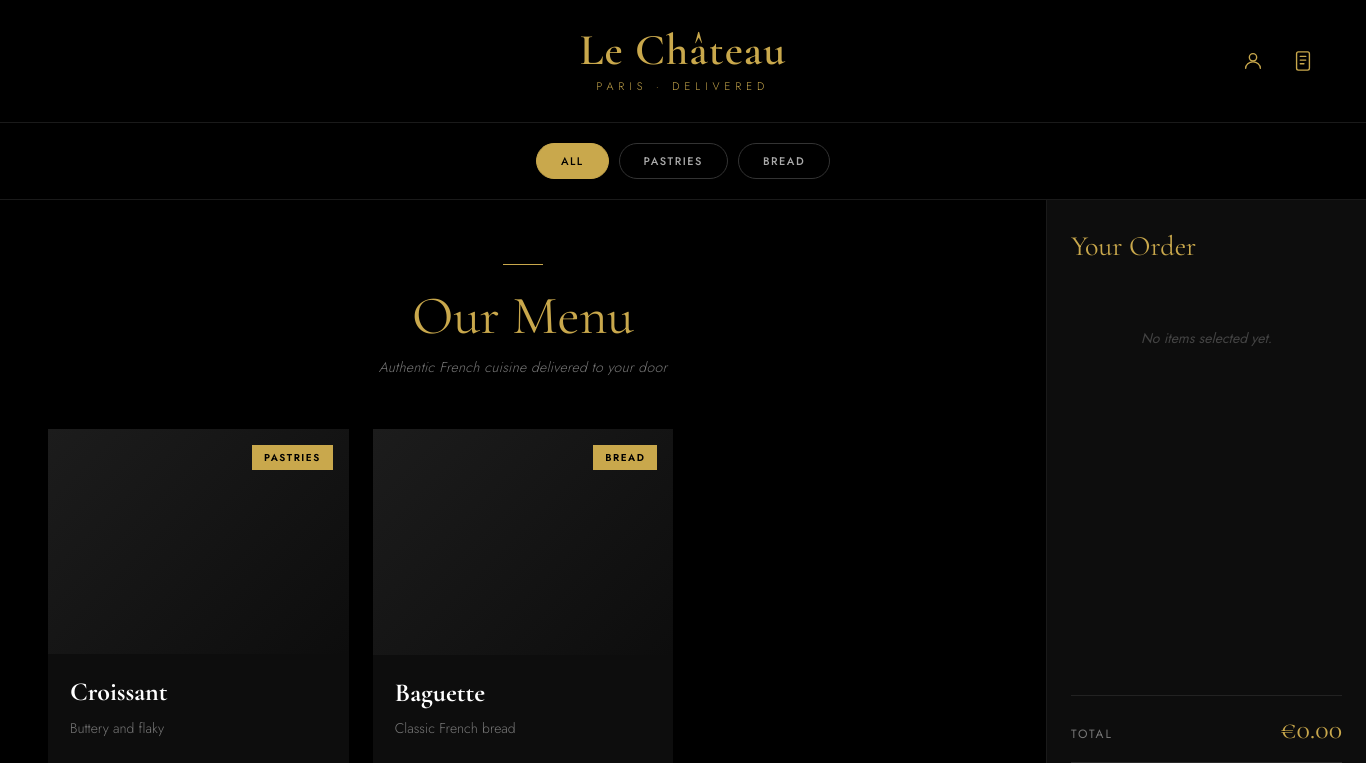
Test: App › filters items by category when a filter button is clicked
Step 1. Click the button "PASTRIES" → point(673, 161), box [619,143,728,179]
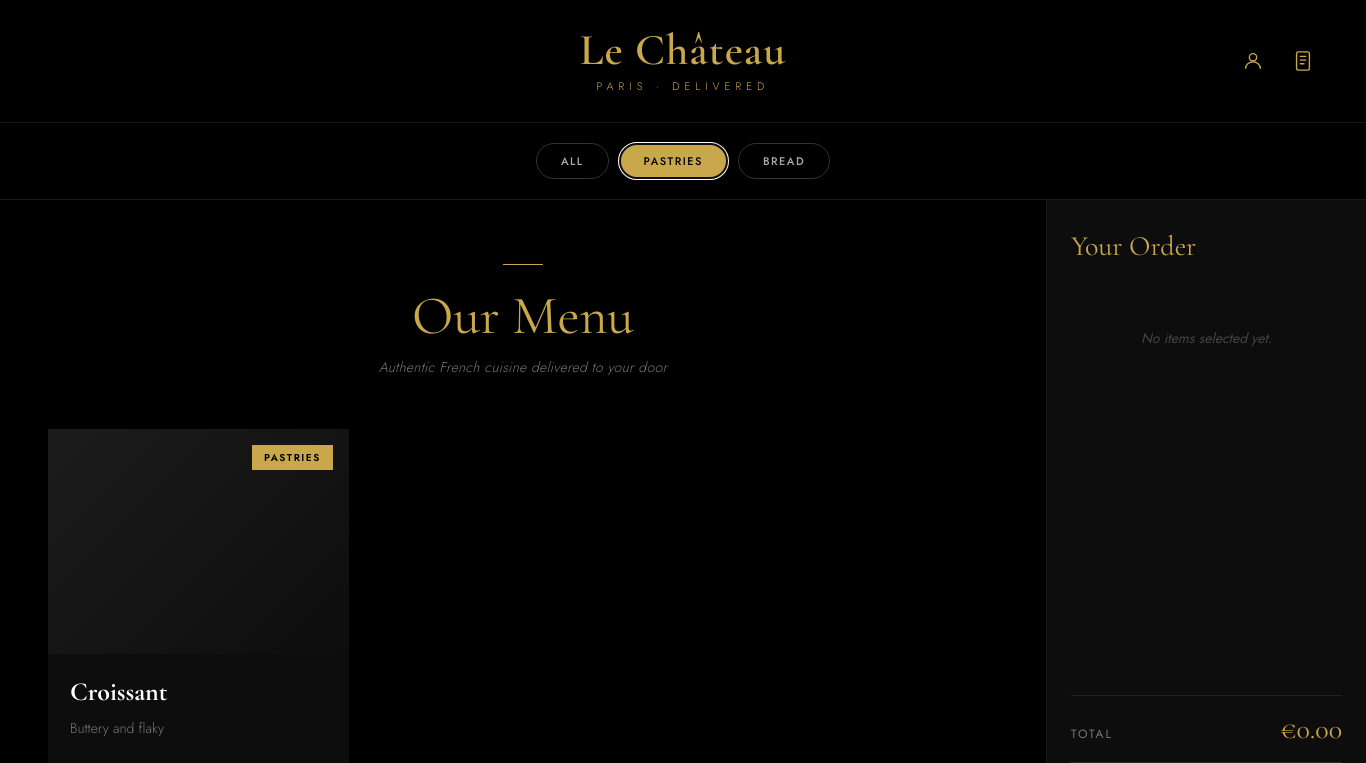
Check: the heading "Croissant" is shown, box [70,676,168,708]
Check: the heading "Baguette" is gone
